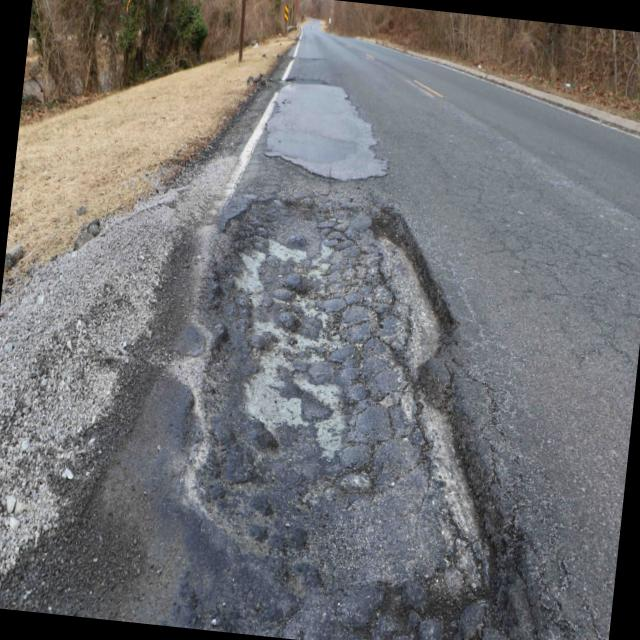Potholes: (164, 143, 543, 640), (260, 51, 398, 208)
